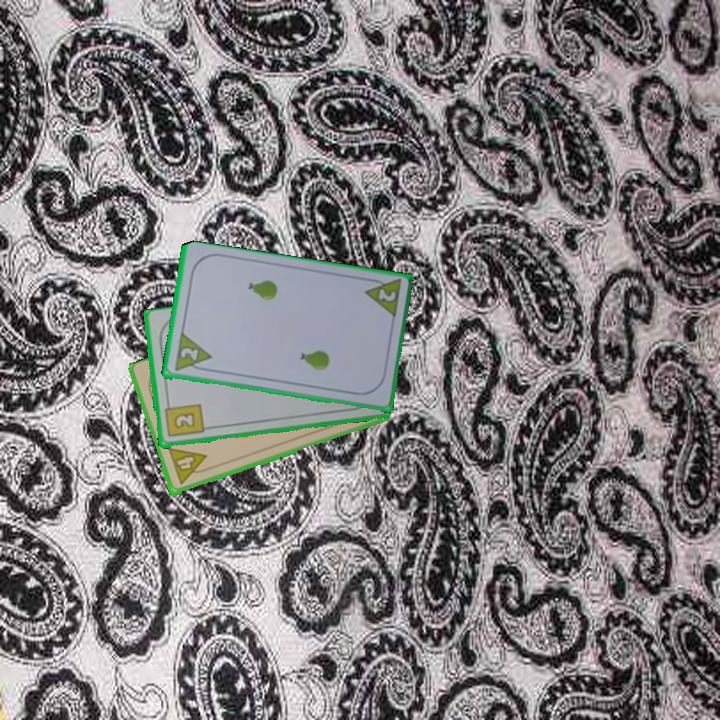2b: (161, 398, 206, 440)
2p: (360, 274, 404, 322), (176, 344, 201, 363)
4p: (165, 445, 213, 488)
